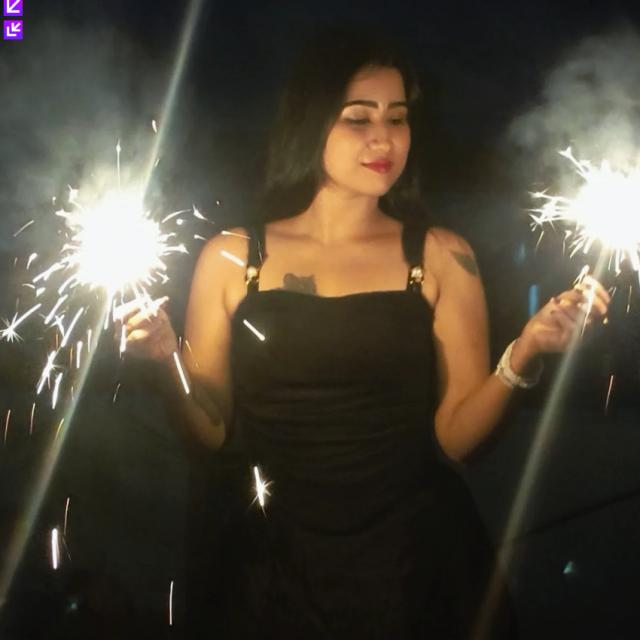fire: (524, 147, 640, 277), (56, 186, 187, 297)
